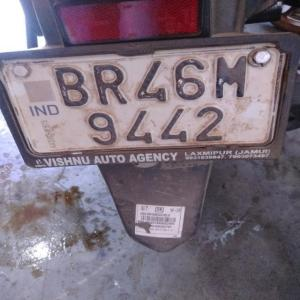Plate: (6, 48, 272, 156)
